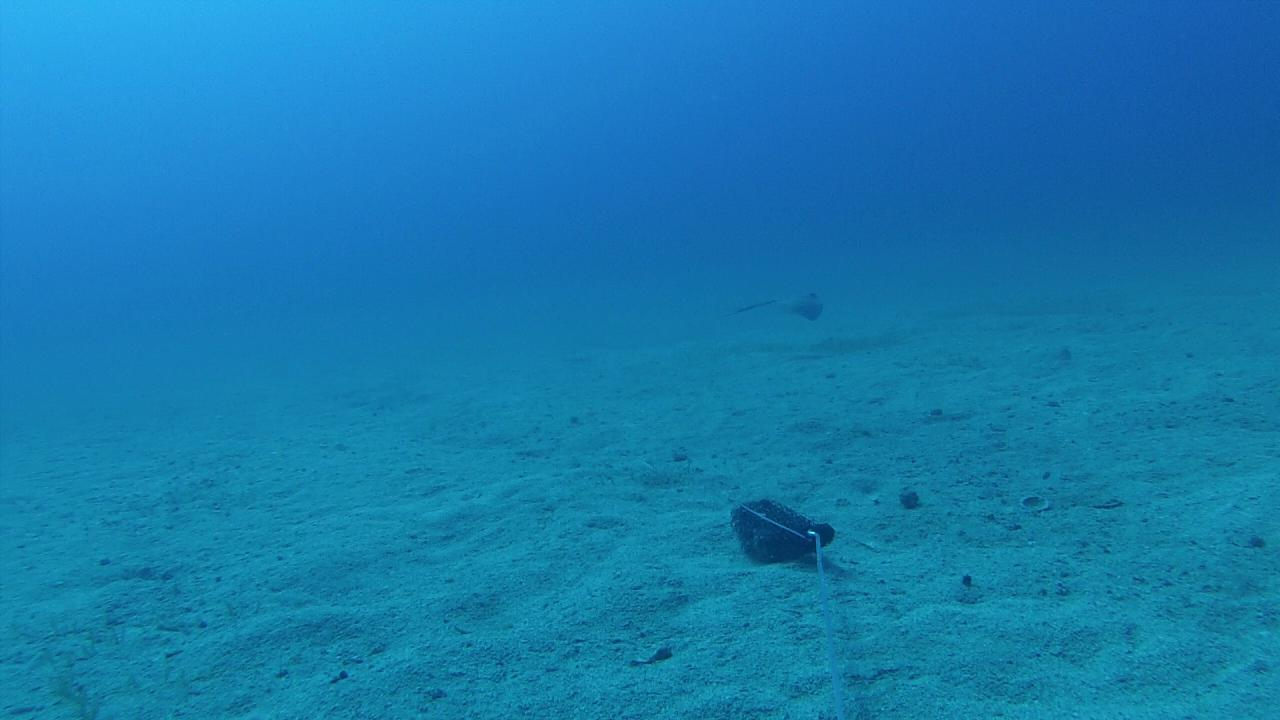dasyatis: (724, 290, 824, 321)
